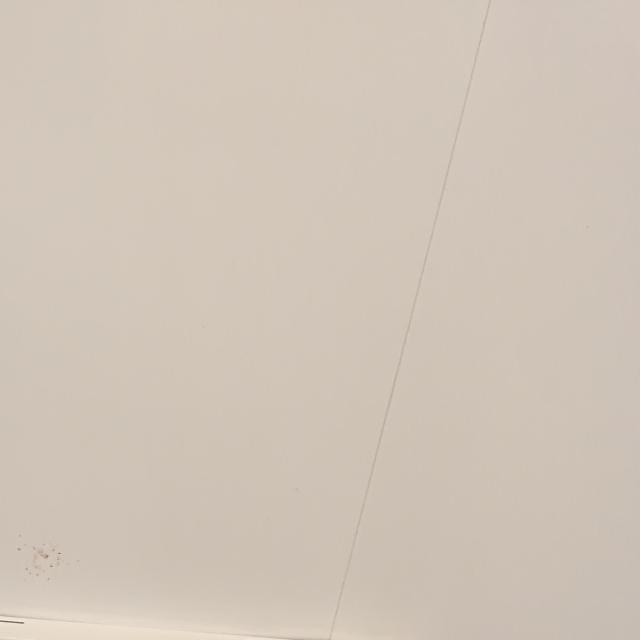fluorescent tube: (0, 550, 440, 640)
